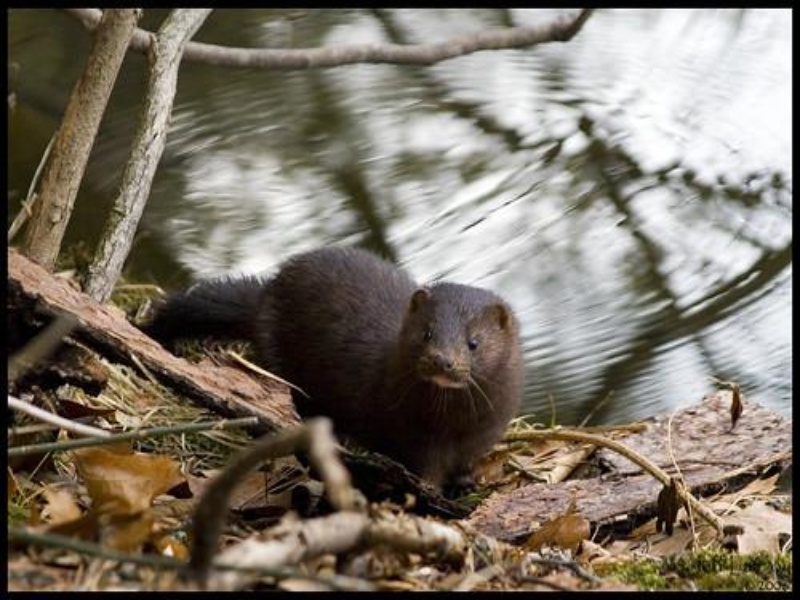minkish: (137, 239, 524, 511)
